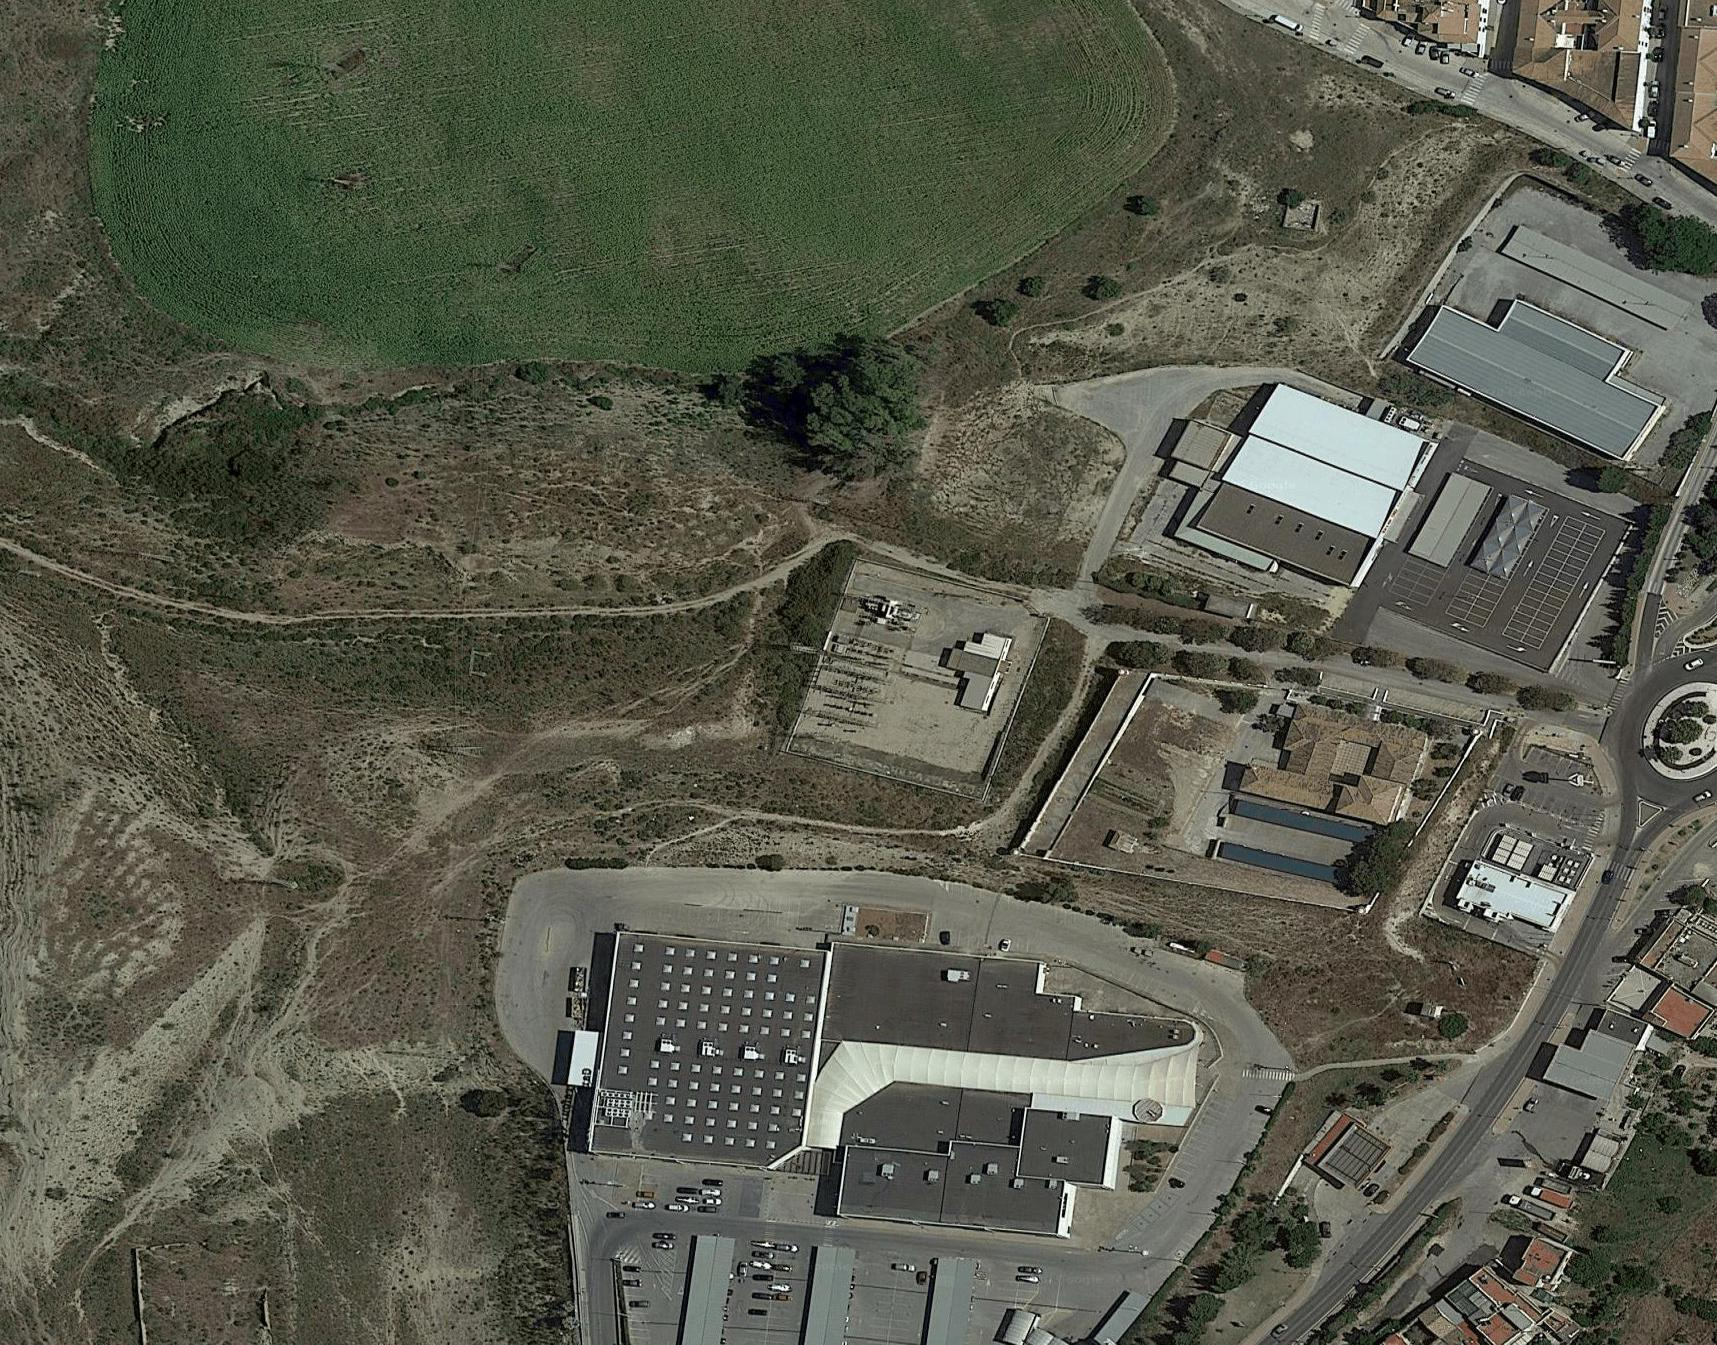substation: (793, 584, 924, 741)
